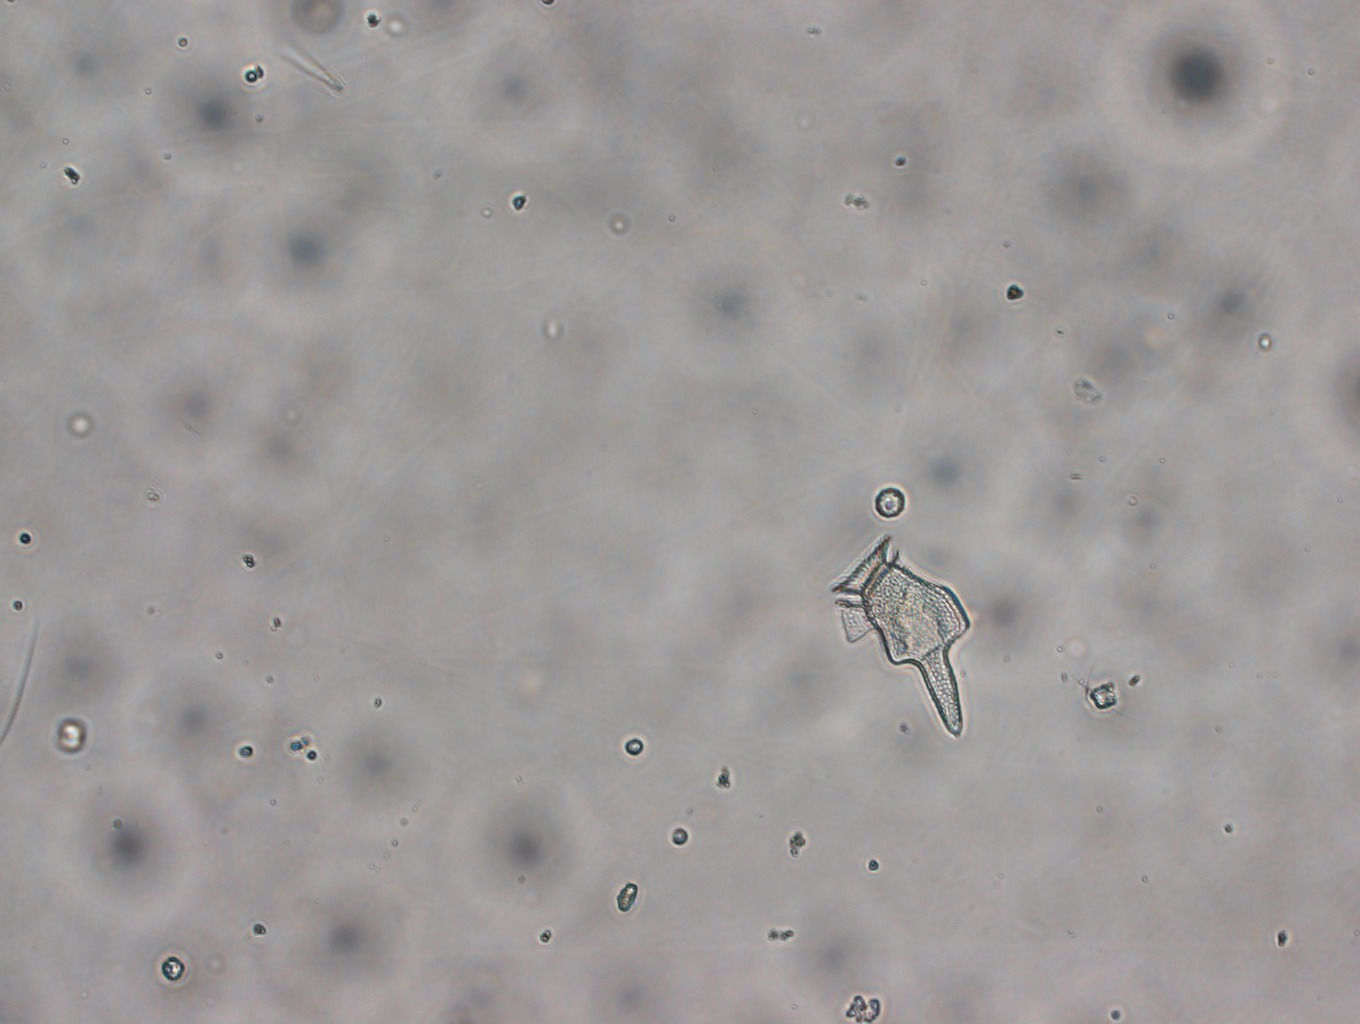dinophysis caudata: (831, 536, 971, 739)
